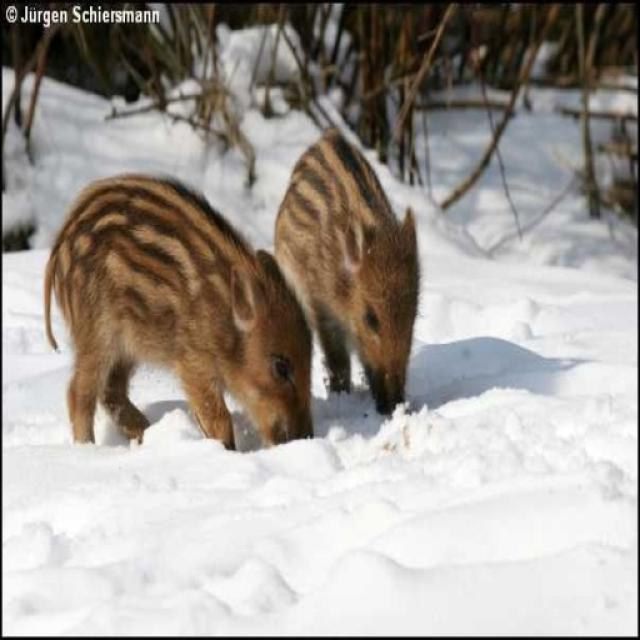pig: (2, 116, 306, 505), (279, 112, 475, 427)
